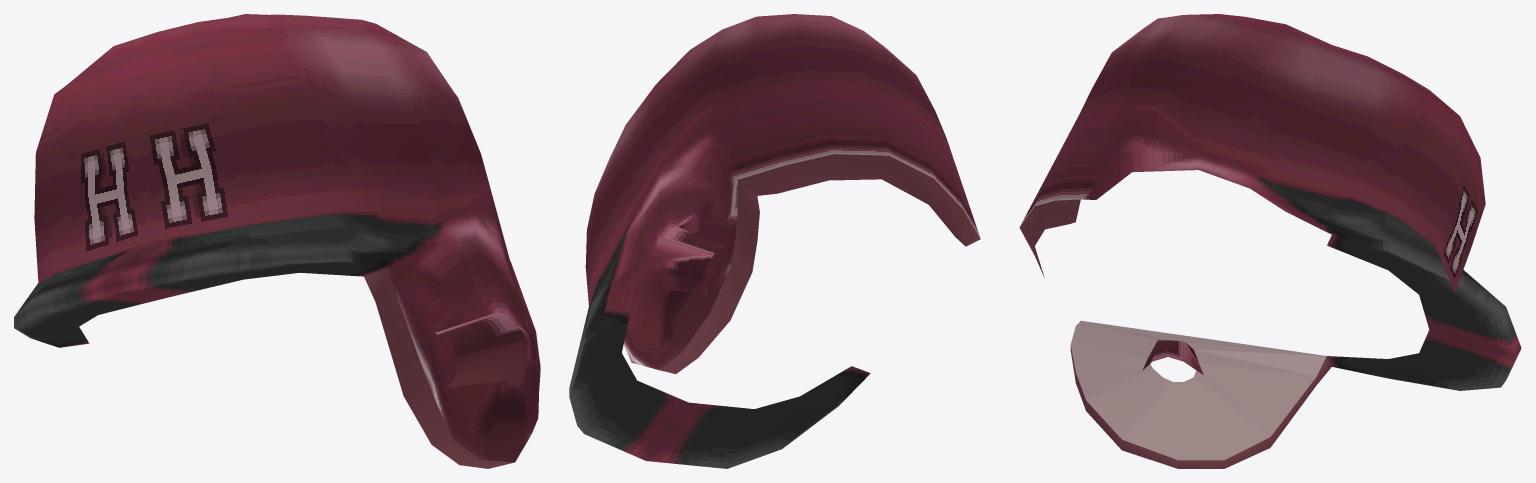
The model's file is ps2_save-icons_highheatmajorleaguebaseball2003.glb.
3 renders of one model, left to right at view 1: azimuth 30°, elevation 25°; view 2: azimuth 150°, elevation 25°; view 3: azimuth 270°, elevation 25°, orthographic. The views are drawn at different scales.
Parts seen in each view (by area): view 1: HH2kIcon.ico; view 2: HH2kIcon.ico; view 3: HH2kIcon.ico.
Boxes of the visible parts, x1,y1,x2,y2 form: HH2kIcon.ico: (14, 14, 540, 468); HH2kIcon.ico: (569, 14, 980, 468); HH2kIcon.ico: (1019, 14, 1521, 468).
Bounding box in the file's own units: 3.31 × 3.91 × 4.85.
1 material, 1 textured.
